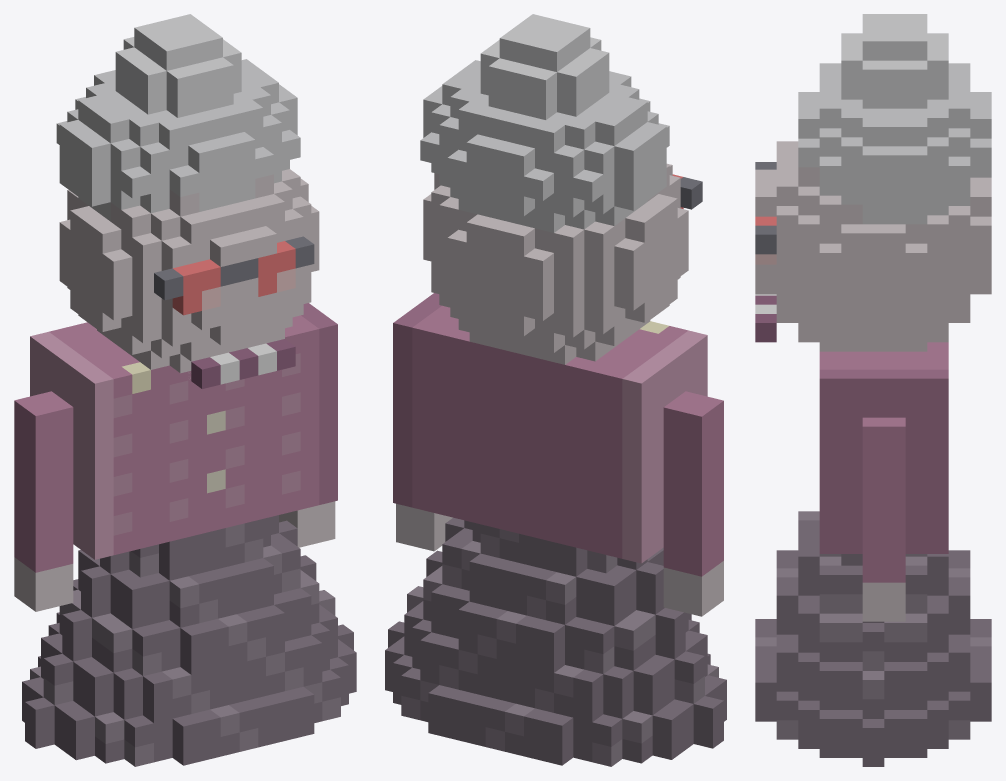
File: boss_nana.glb
3 views of the same model, side by side, from view 1: azimuth 30°, elevation 25°; view 2: azimuth 150°, elevation 25°; view 3: azimuth 270°, elevation 25° (orthographic). The views are drawn at different scales.
Visible parts, largest first — view 1: body, head, armL, armR; view 2: body, head, armL, armR; view 3: head, body, armR.
Boxes of the visible parts, left/top/right/bottom form: body: left=22, top=303, right=356, bottom=766; head: left=56, top=14, right=319, bottom=388; armL: left=14, top=391, right=73, bottom=611; armR: left=279, top=501, right=335, bottom=547; body: left=385, top=293, right=726, bottom=766; head: left=420, top=14, right=702, bottom=364; armL: left=663, top=391, right=723, bottom=616; armR: left=396, top=503, right=452, bottom=551; head: left=755, top=14, right=991, bottom=351; body: left=755, top=342, right=991, bottom=766; armR: left=862, top=417, right=905, bottom=621.
Bounding box in the file's own units: 1.06 × 2.12 × 0.6875.
